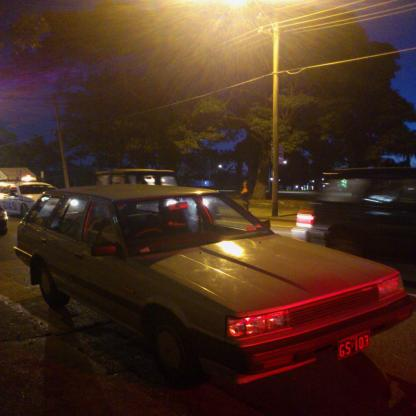Car: (0, 164, 416, 388)
